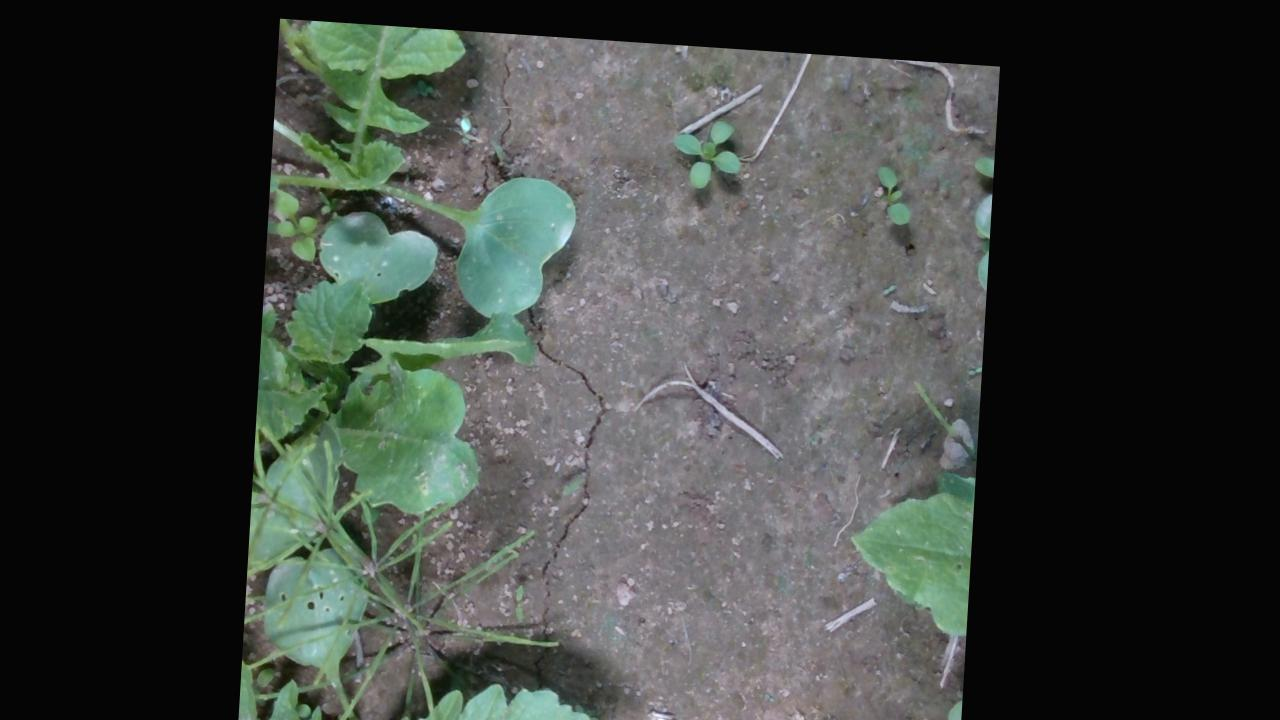weed: (667, 89, 748, 197)
